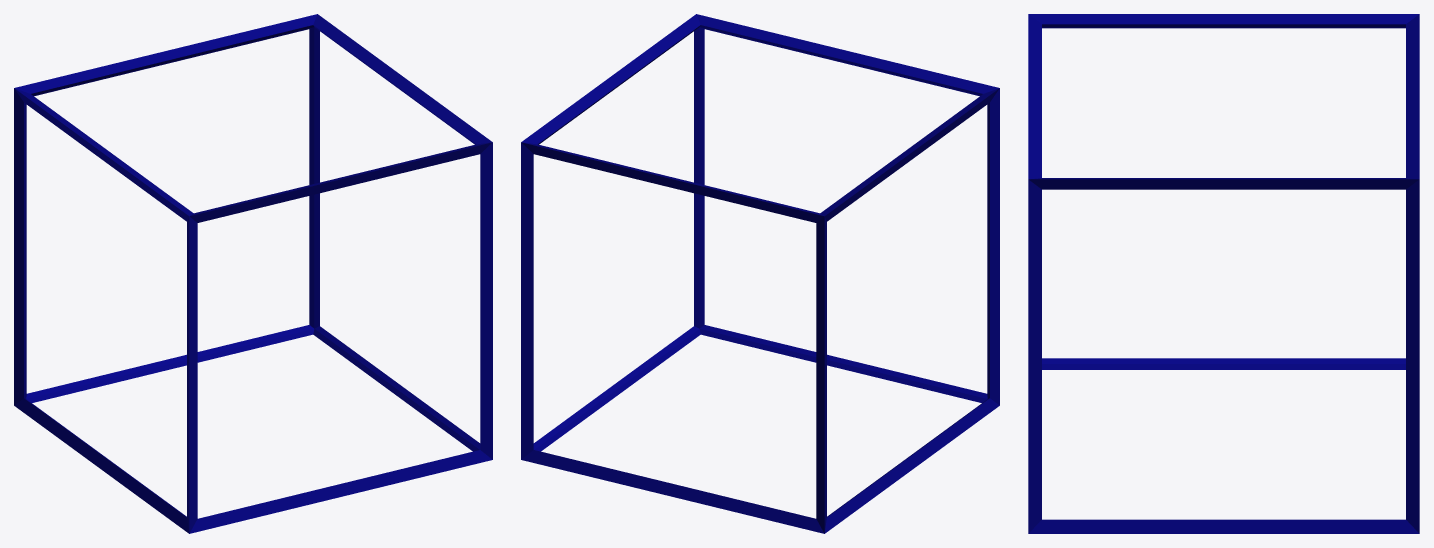
3 renders of one model, left to right at view 1: azimuth 30°, elevation 25°; view 2: azimuth 150°, elevation 25°; view 3: azimuth 270°, elevation 25°, orthographic. The views are drawn at different scales.
Visible parts, largest first — view 1: Cube.001; view 2: Cube.001; view 3: Cube.001.
Boxes of the visible parts, x1=… form: Cube.001: x1=14, y1=14, x2=492, y2=533; Cube.001: x1=521, y1=14, x2=999, y2=533; Cube.001: x1=1028, y1=14, x2=1419, y2=533.
Size of the model in its own units: 2.05 by 2.05 by 2.05.
